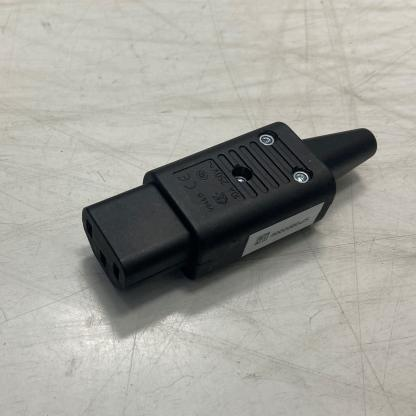SP0000006: (65, 58, 381, 326)
